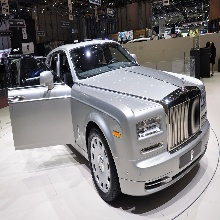no damage: (8, 41, 210, 205)
